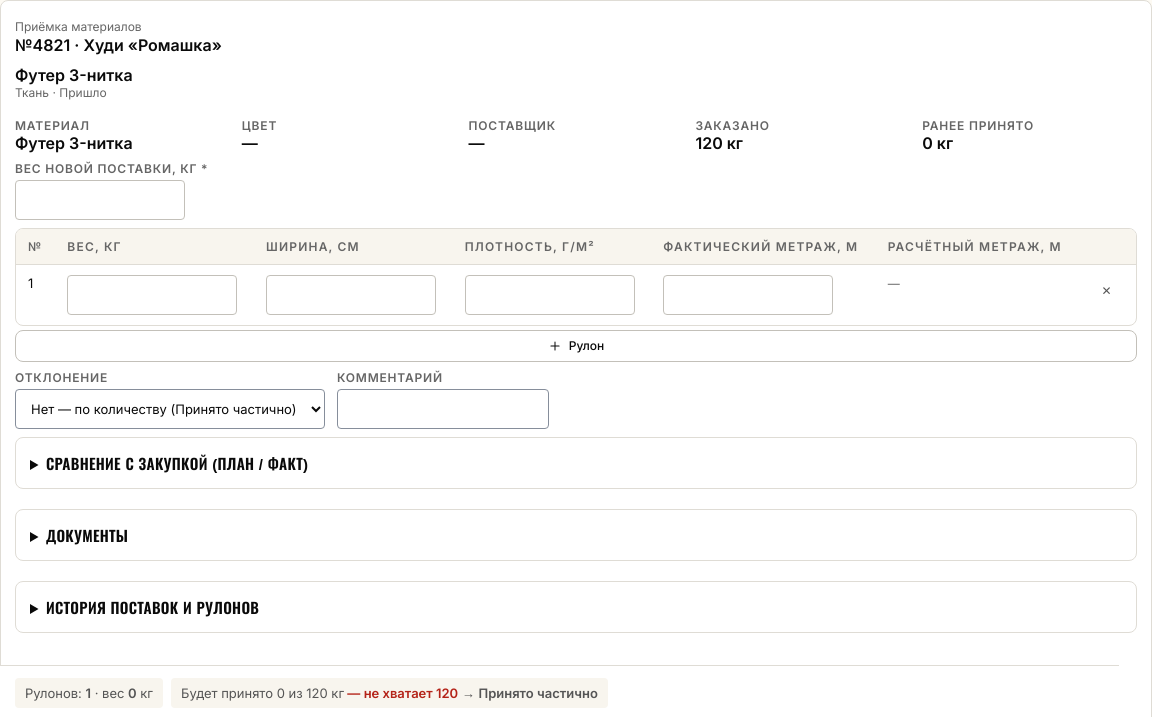
Scenario: приёмка: статус выводится из чисел › сверх заказа — названо отдельно
The image size is (1152, 717).
Type "125" into the number field labelled "Вес новой поставки, кг *" at (100, 200), box left=15, top=180, right=185, bottom=220
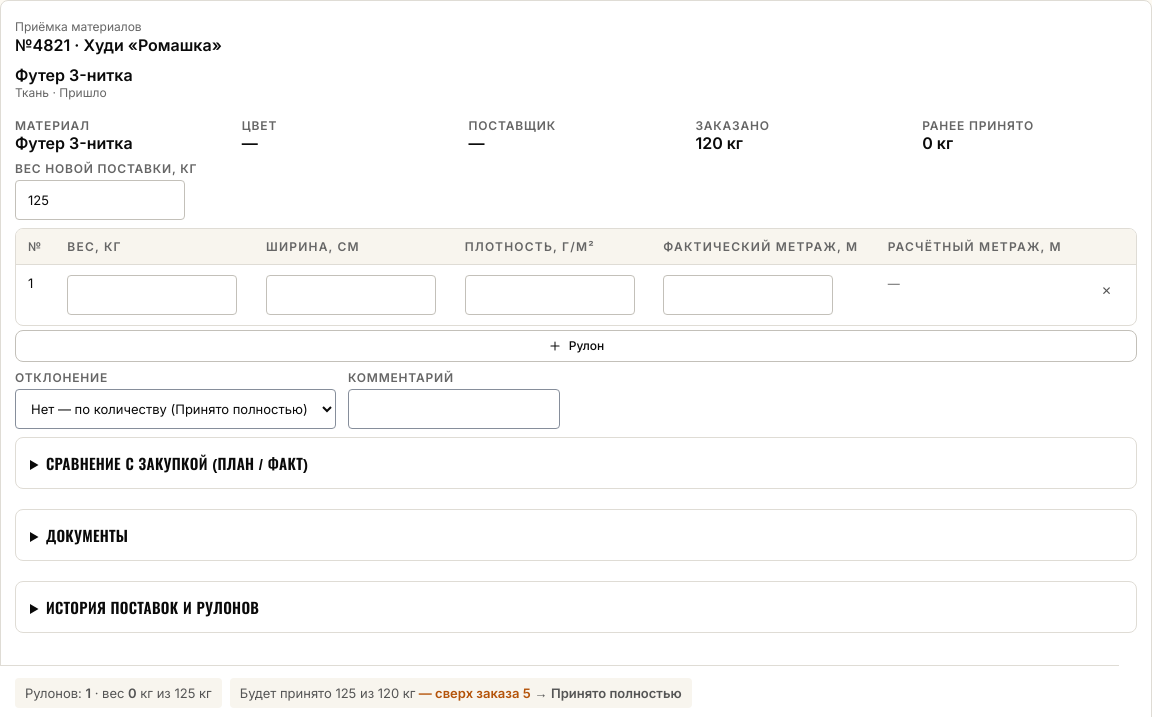
Expected: the text "Будет принято" shows "сверх заказа 5", left=230, top=678, right=692, bottom=708
